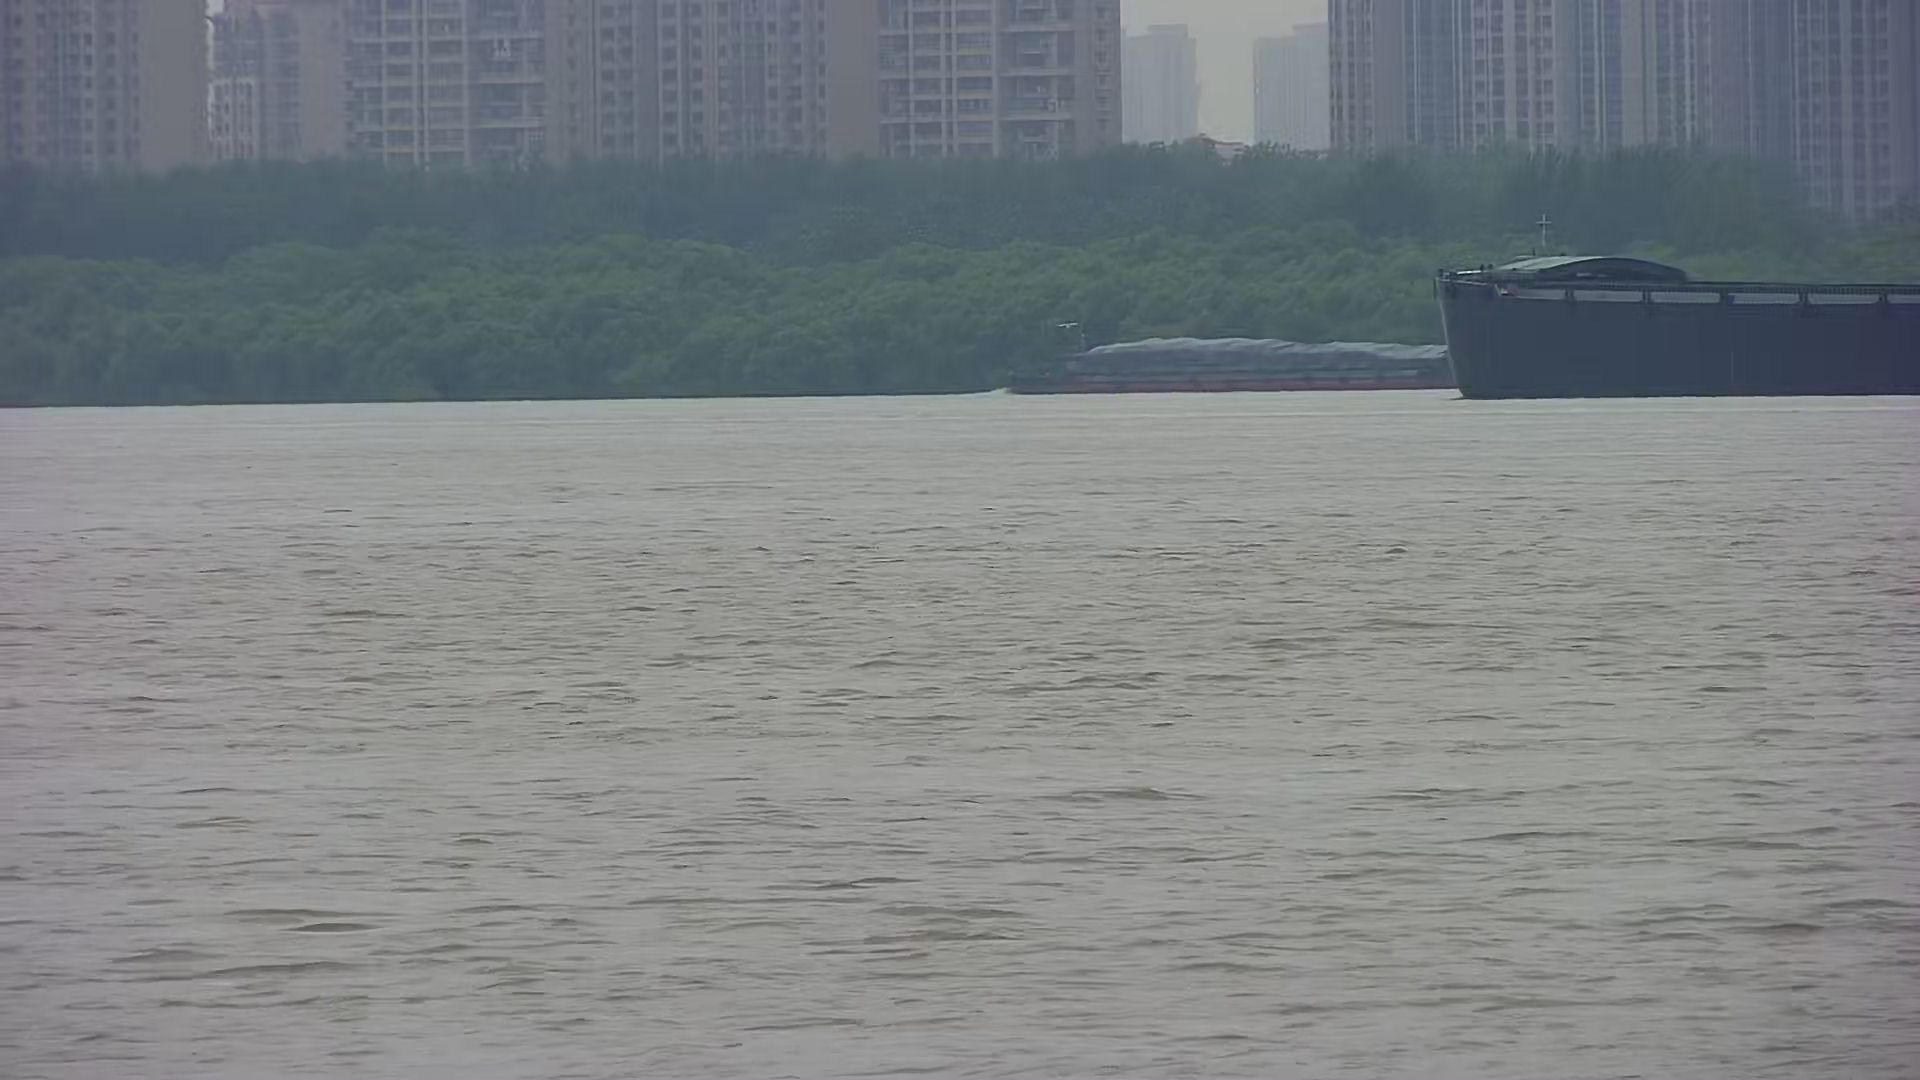ship: (1429, 247, 1920, 401), (971, 314, 1451, 392)
